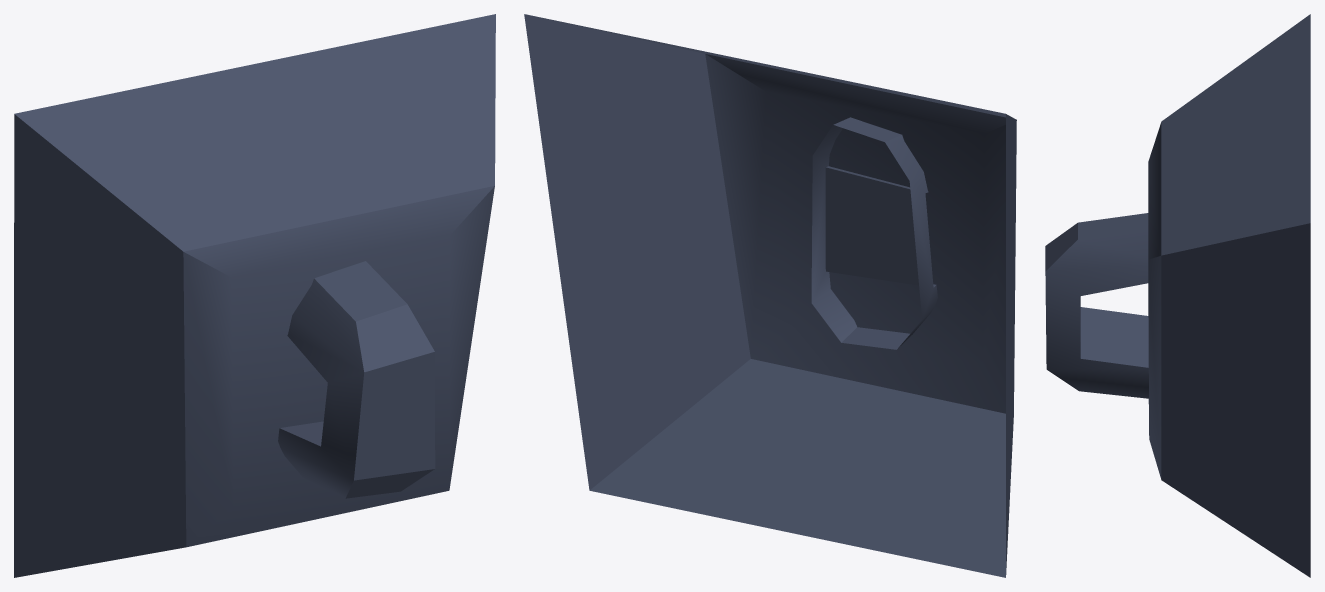
File: Attache_mur.fbx
The picture shows the model from 3 angles, left to right: view 1: azimuth 30°, elevation 25°; view 2: azimuth 150°, elevation 25°; view 3: azimuth 270°, elevation 25°; orthographic projection. The views are drawn at different scales.
Parts seen in each view (by area): view 1: AttacheMur_Export; view 2: AttacheMur_Export; view 3: AttacheMur_Export.
Part boxes in pixels (left/top/right/bottom): AttacheMur_Export: left=14, top=14, right=495, bottom=577; AttacheMur_Export: left=524, top=14, right=1016, bottom=577; AttacheMur_Export: left=1045, top=14, right=1310, bottom=577.
Bounding box in the file's own units: 58.32 × 55.35 × 33.59.
